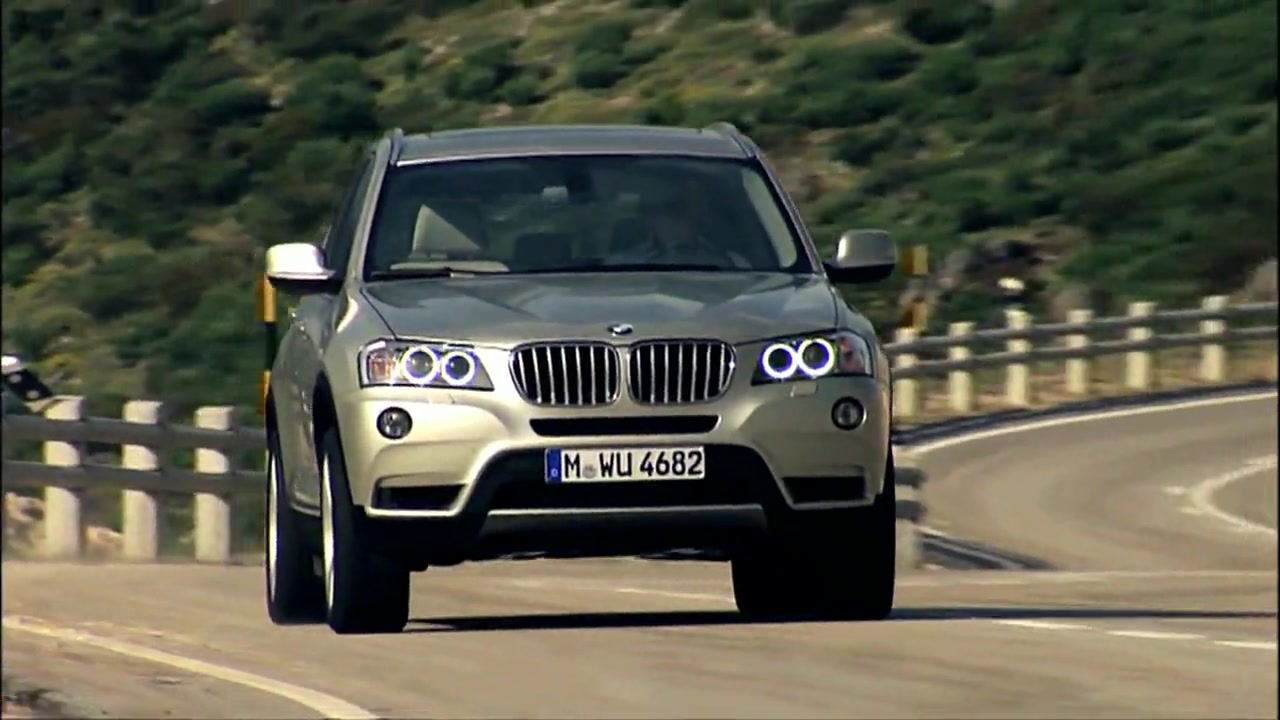car: (257, 125, 907, 633)
